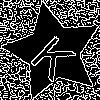K: (28, 26, 85, 83)
